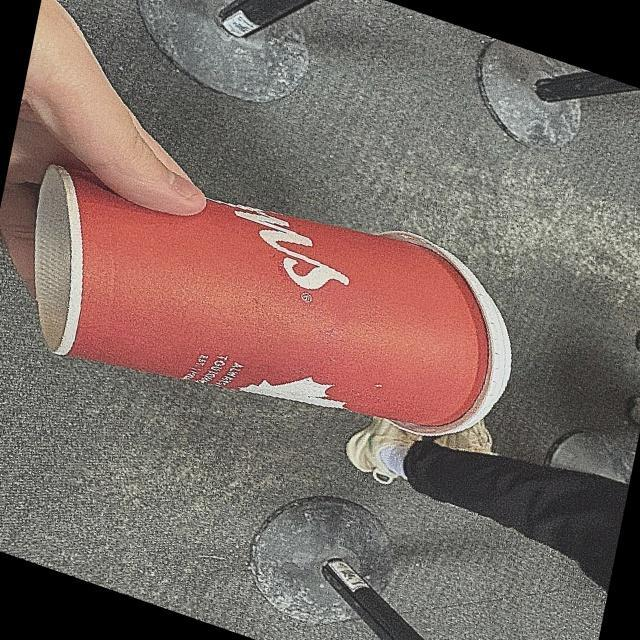timmies: (7, 160, 520, 434)
